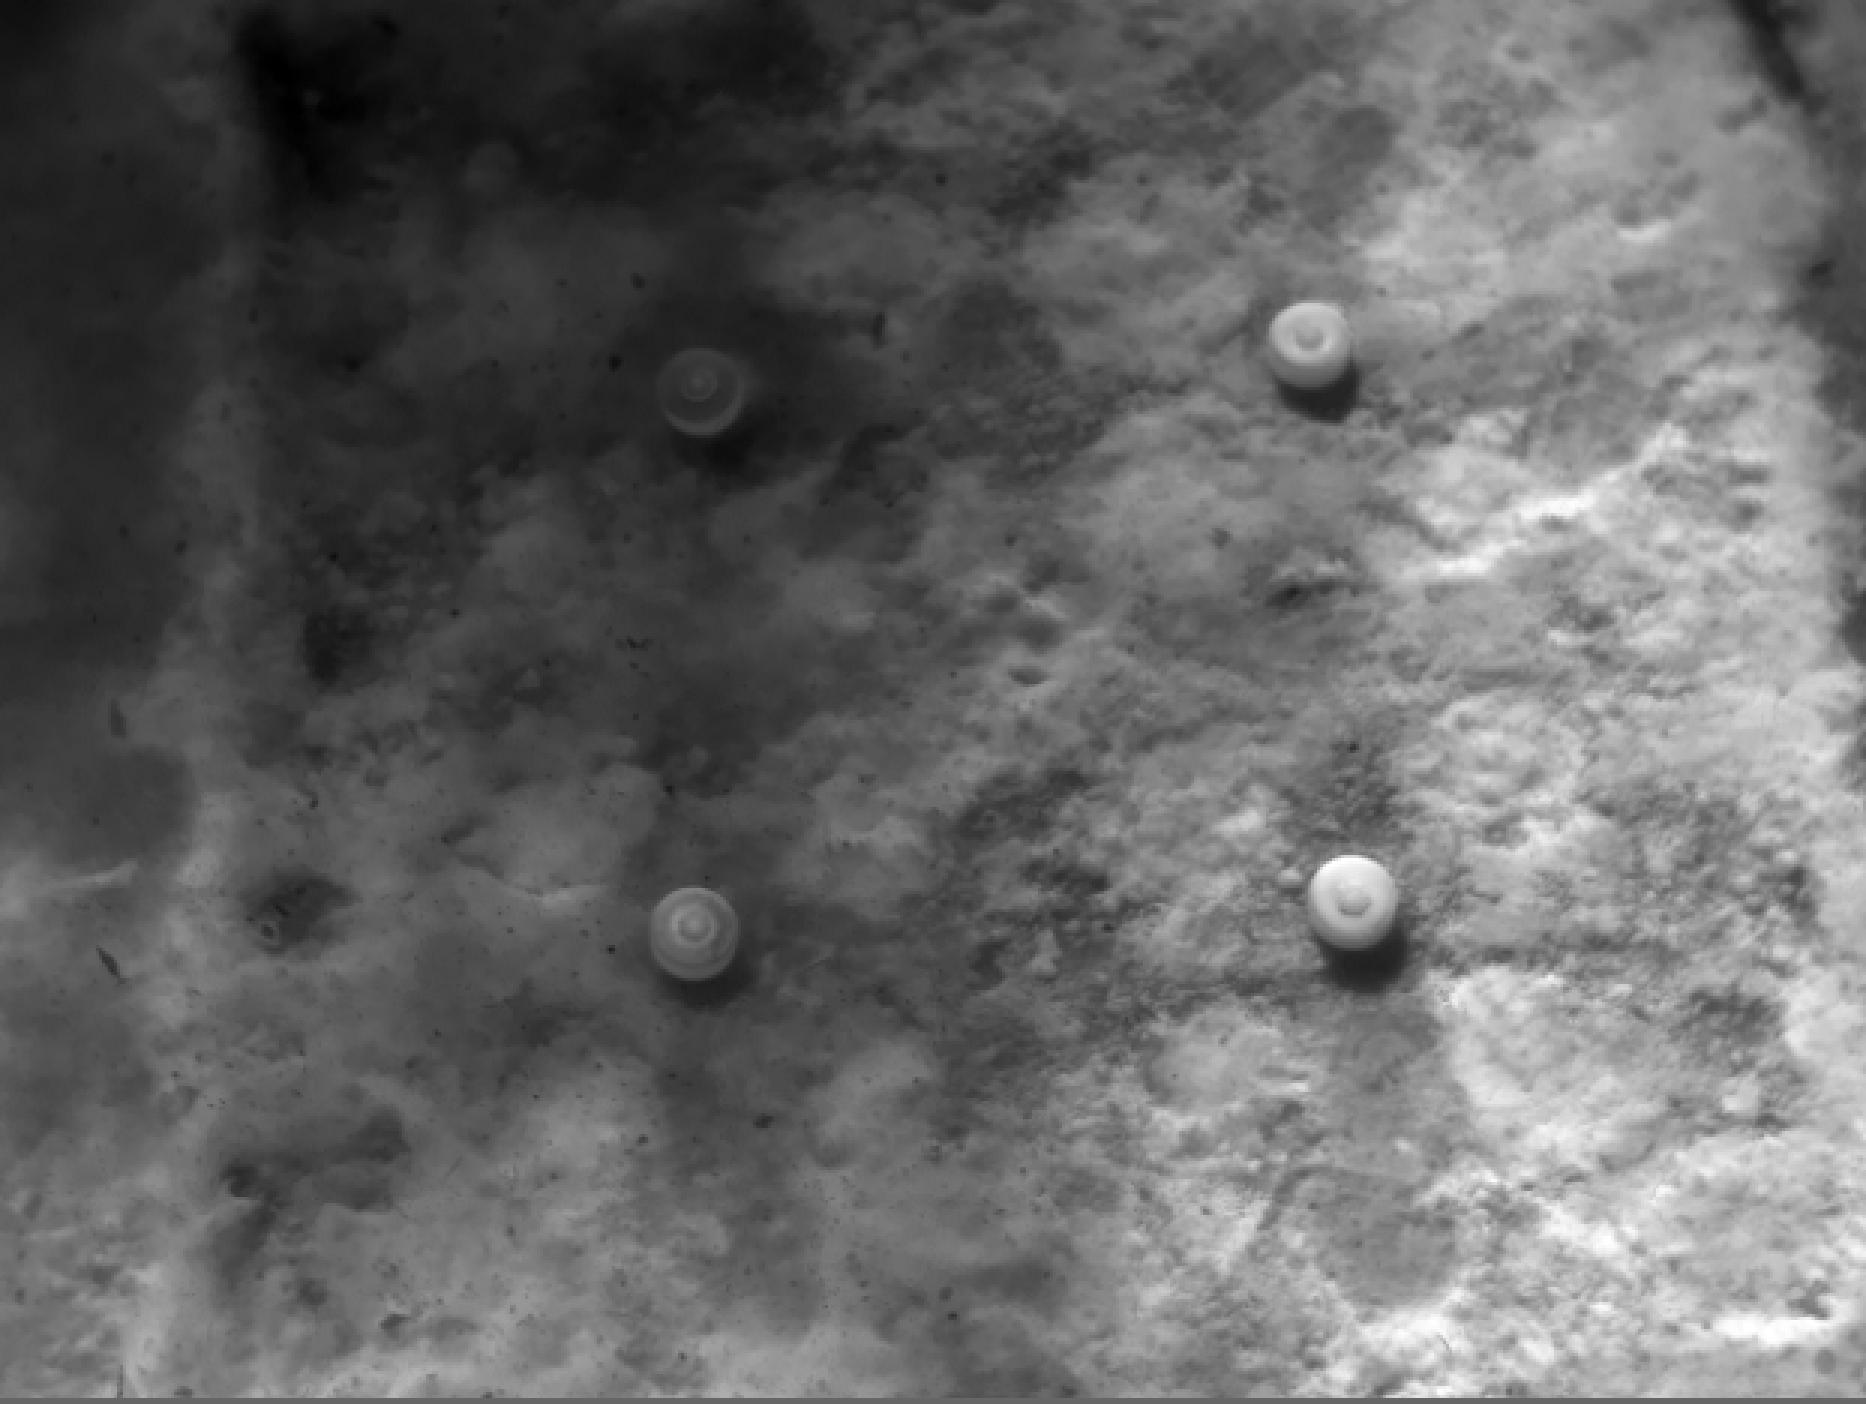mines-gjV8: (1255, 292, 1356, 386), (1317, 866, 1403, 953), (662, 888, 733, 990), (665, 345, 740, 432)
